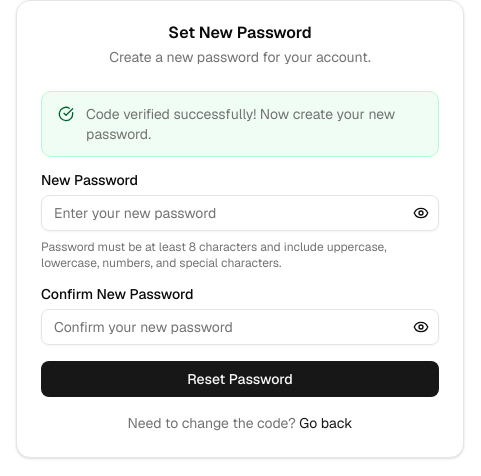
ResetPasswordForm › allows going back to code verification from password step
Click the button "Go back": [326, 423] box [299,413,353,433]
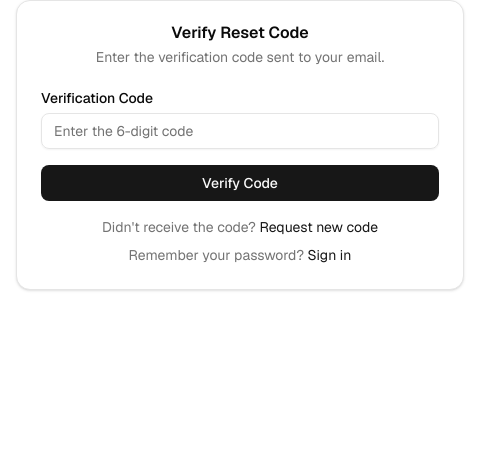
Expected: the text "Set New Password" is gone
